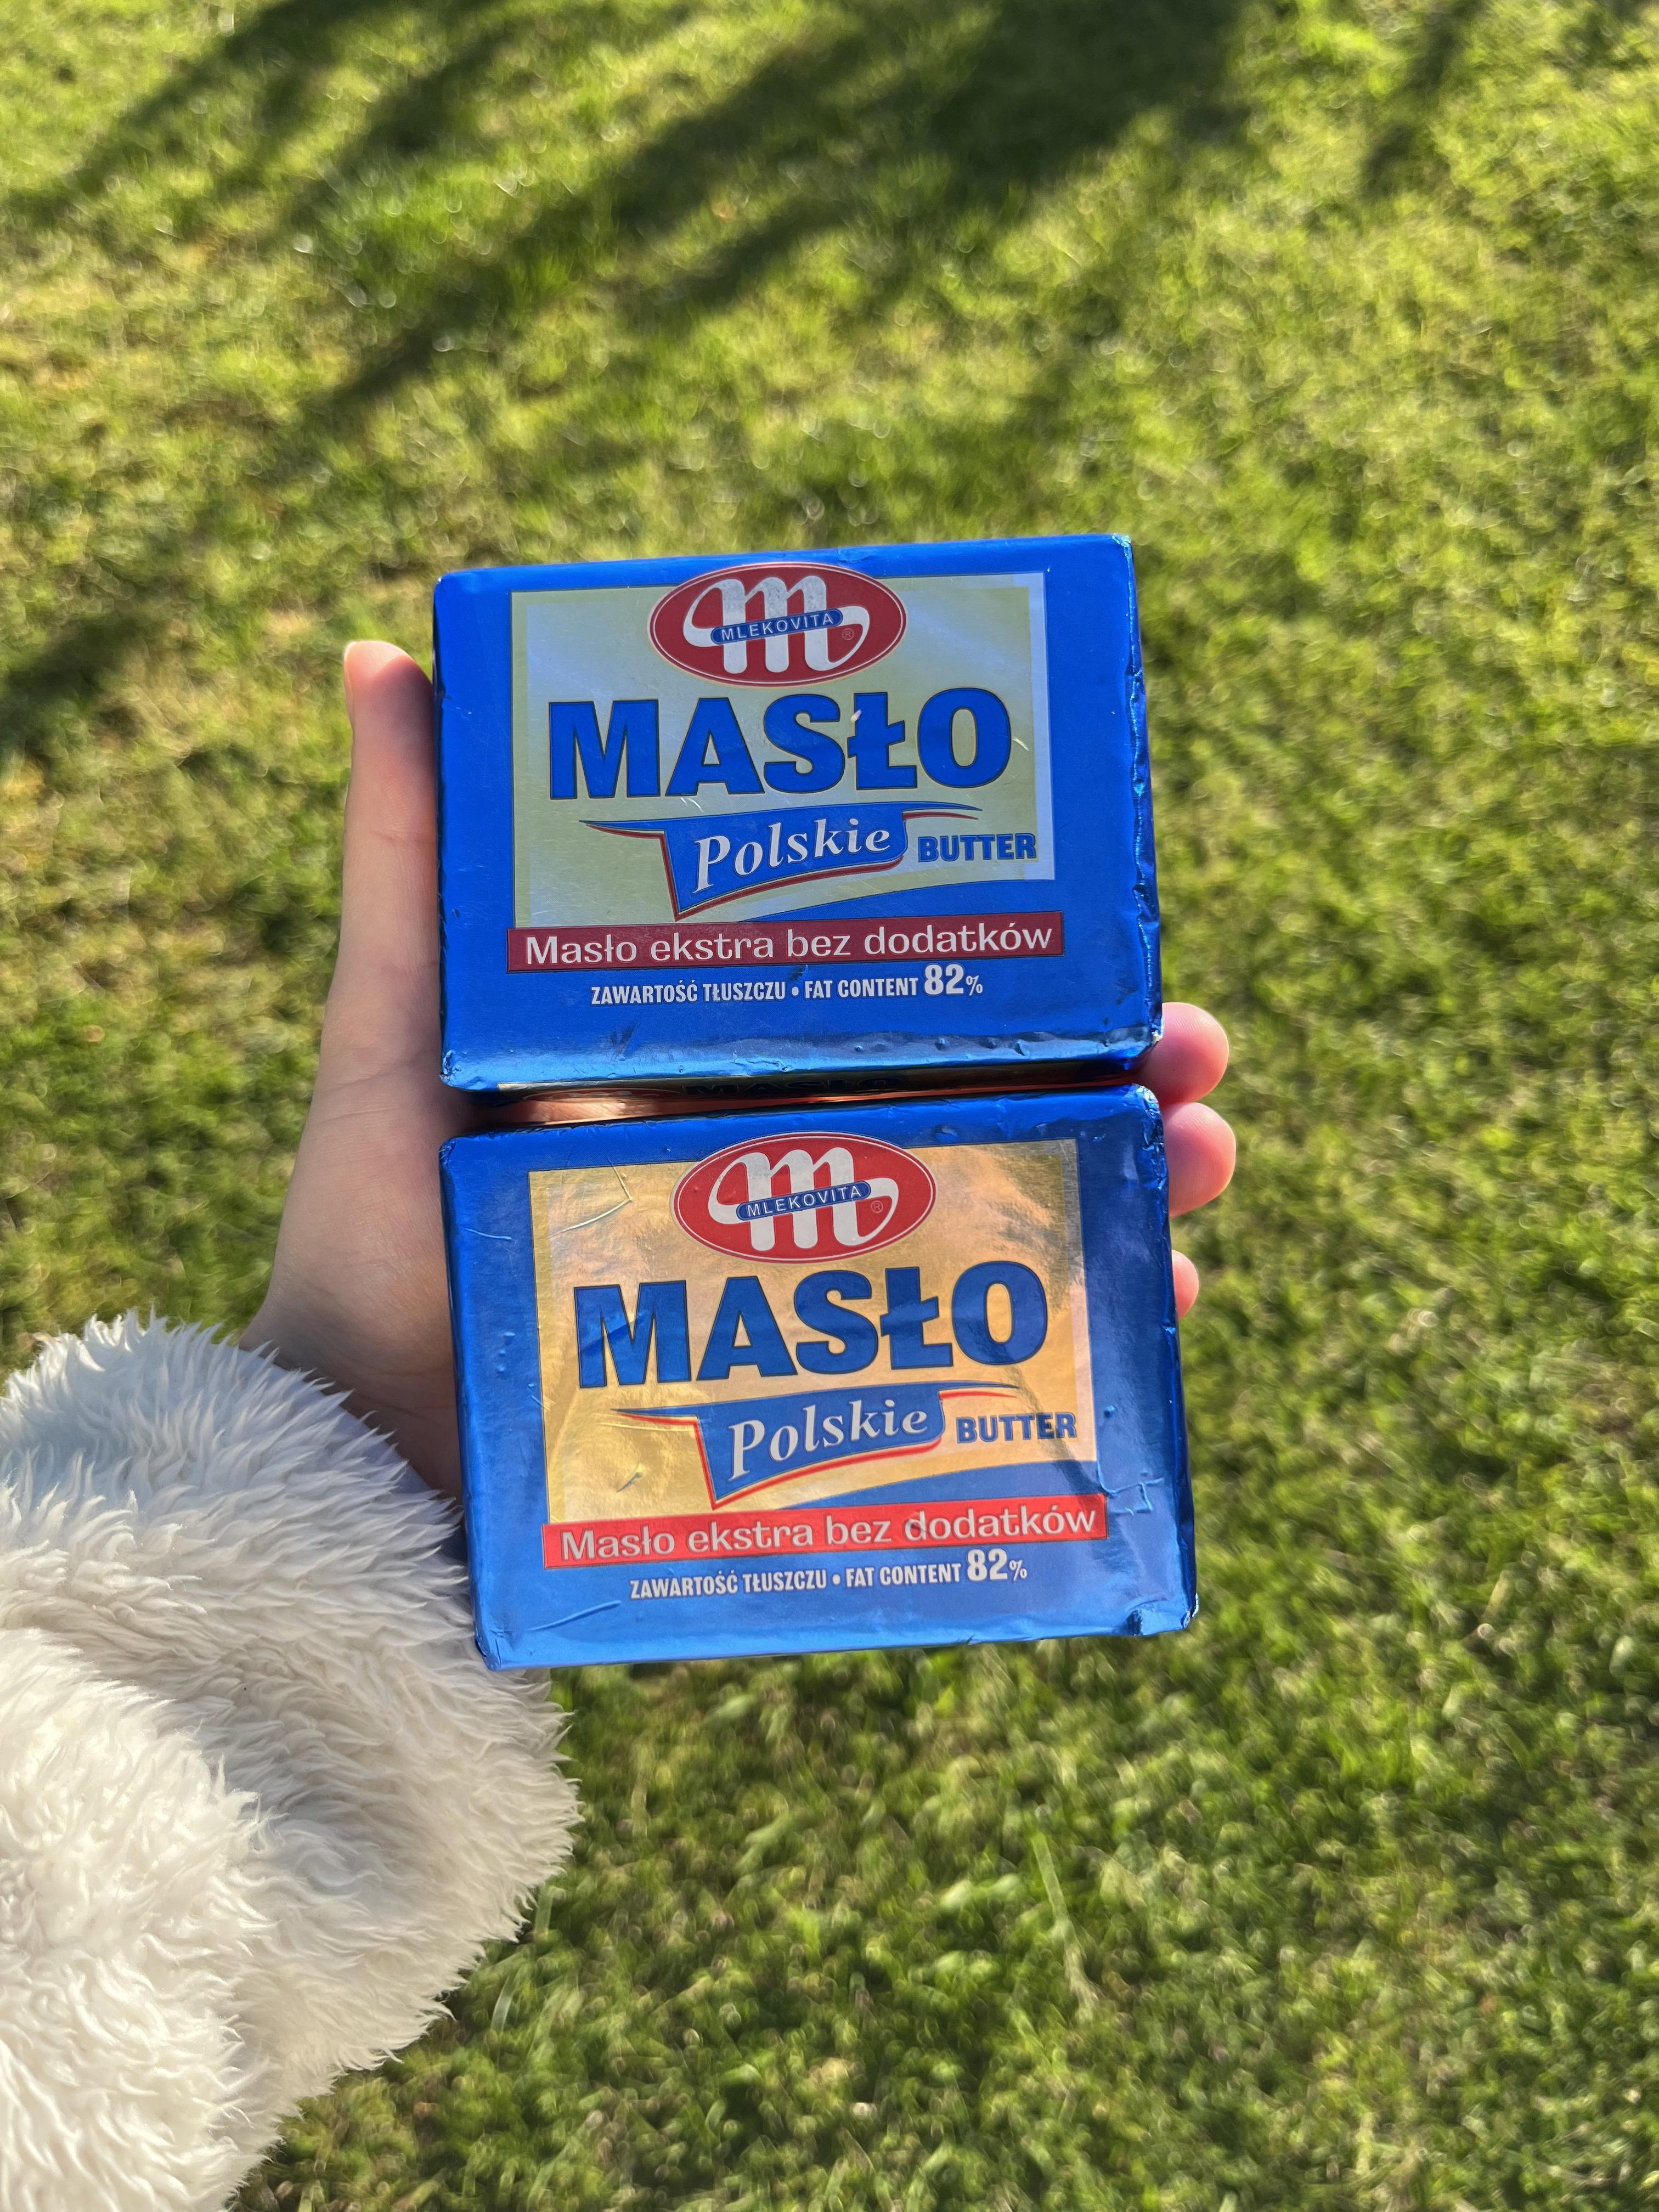Butter: (446, 1122, 1197, 1642), (429, 556, 1169, 1052)
